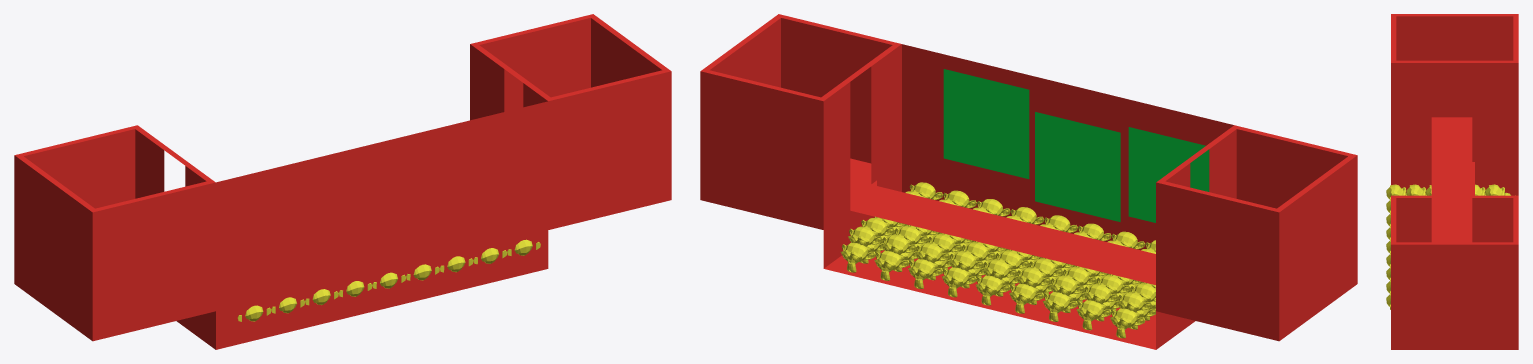
Rendered from _tuto redroom.fbx.
3 views of the same model, side by side, from view 1: azimuth 30°, elevation 25°; view 2: azimuth 150°, elevation 25°; view 3: azimuth 270°, elevation 25° (orthographic). The views are drawn at different scales.
Parts seen in each view (by area): view 1: Cube.006, Suzanne; view 2: Cube.006, Suzanne, Plane, Plane.001, Plane.002; view 3: Cube.006, Suzanne.
Boxes of the visible parts, left/top/right/bottom form: Cube.006: left=14, top=14, right=671, bottom=349; Suzanne: left=237, top=239, right=540, bottom=321; Cube.006: left=700, top=14, right=1357, bottom=349; Suzanne: left=841, top=182, right=1155, bottom=338; Plane: left=943, top=69, right=1029, bottom=178; Plane.001: left=1035, top=112, right=1120, bottom=221; Plane.002: left=1128, top=127, right=1209, bottom=222; Cube.006: left=1391, top=14, right=1518, bottom=349; Suzanne: left=1386, top=184, right=1515, bottom=309.
Size of the model in its own units: 4700 by 1300 by 1139.
